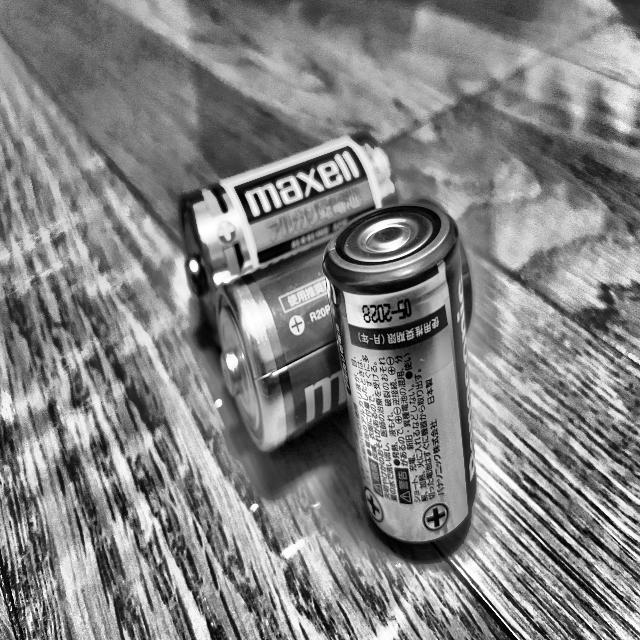drycell: (210, 182, 476, 456), (173, 122, 400, 327)
